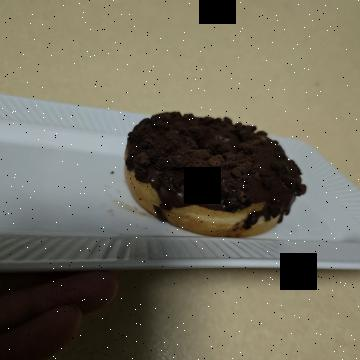doughnut: (104, 42, 257, 251)
